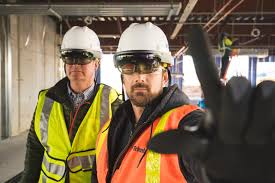hololens: (112, 49, 170, 75), (59, 47, 101, 66)
